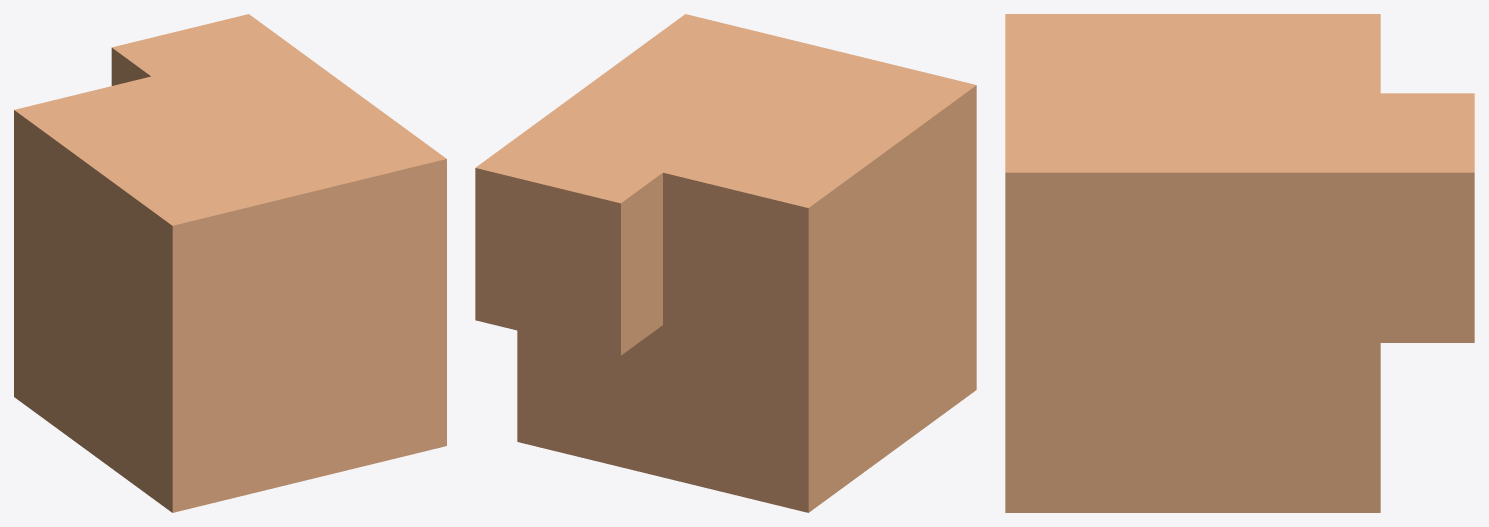
The model's file is HandL.fbx.
3 renders of one model, left to right at view 1: azimuth 30°, elevation 25°; view 2: azimuth 150°, elevation 25°; view 3: azimuth 270°, elevation 25°, orthographic. The views are drawn at different scales.
Parts seen in each view (by area): view 1: generated; view 2: generated; view 3: generated.
Boxes of the visible parts, bbox=[...] form: generated: bbox=[14, 14, 446, 512]; generated: bbox=[475, 14, 976, 512]; generated: bbox=[1005, 14, 1474, 512].
Size of the model in its own units: 20 by 20 by 25.
